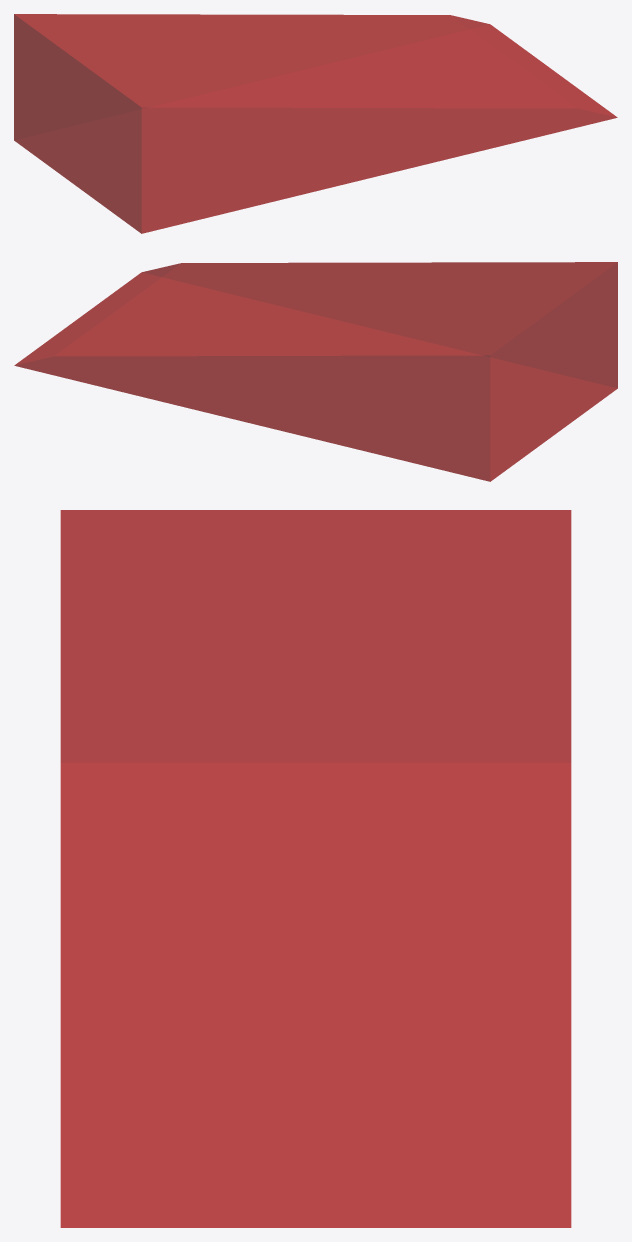
Rendered from SM_Prop_Ramp_01_Collision.fbx.
3 renders of one model, top to bottom at view 1: azimuth 30°, elevation 25°; view 2: azimuth 150°, elevation 25°; view 3: azimuth 270°, elevation 25°, orthographic. The views are drawn at different scales.
Parts seen in each view (by area): view 1: SM_Prop_Ramp_01_Collision; view 2: SM_Prop_Ramp_01_Collision; view 3: SM_Prop_Ramp_01_Collision.
Part boxes in pixels (x1,y1,x2,y2): SM_Prop_Ramp_01_Collision: (14,14,617,233); SM_Prop_Ramp_01_Collision: (14,262,617,481); SM_Prop_Ramp_01_Collision: (60,510,571,1227).
Size of the model in its own units: 120 by 30.52 by 55.83.
